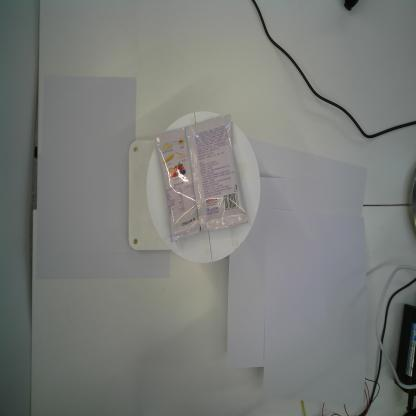Instant Drink: (154, 112, 249, 244)
